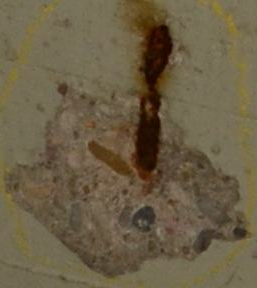Exposed reinforcement: (134, 24, 174, 172)
Spalling: (1, 84, 257, 279)
